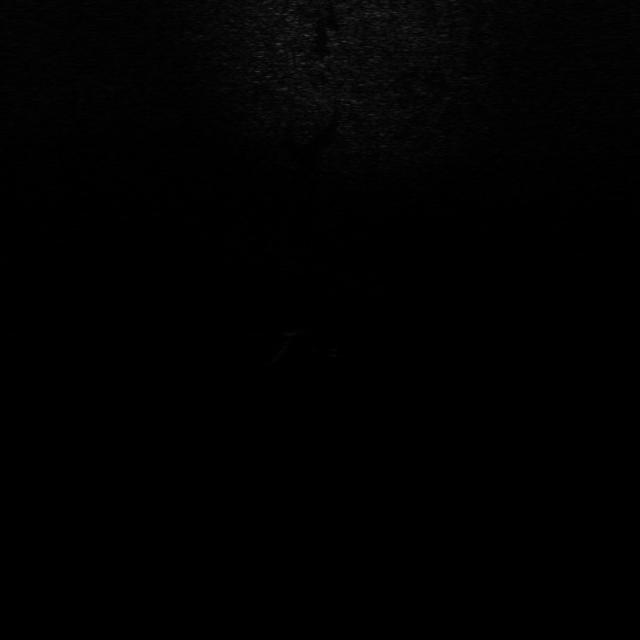human body: (280, 324, 344, 368)
